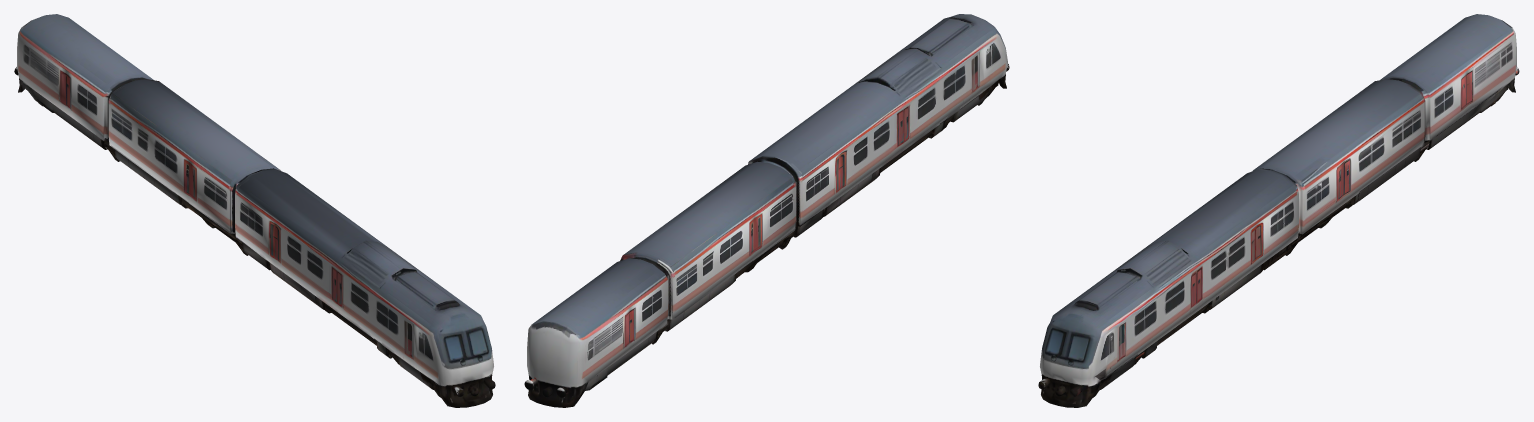
File: train_realistic_style_11dcf141_v2.glb
3 renders of one model, left to right at view 1: azimuth 30°, elevation 25°; view 2: azimuth 150°, elevation 25°; view 3: azimuth 330°, elevation 25°, orthographic.
Visible parts, largest first — view 1: texture_pbr_20250901; view 2: texture_pbr_20250901; view 3: texture_pbr_20250901.
Part boxes in pixels (bbox=[...]): texture_pbr_20250901: bbox=[14, 14, 495, 407]; texture_pbr_20250901: bbox=[524, 14, 1009, 407]; texture_pbr_20250901: bbox=[1038, 14, 1519, 407].
Bounding box in the file's own units: 0.1328 × 0.2116 × 1.9.
Materials: 1 (1 with a texture image).
